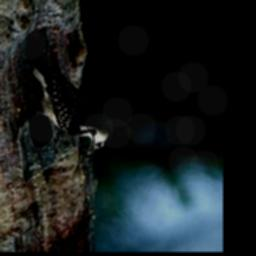Woodpecker: (28, 39, 117, 157)
